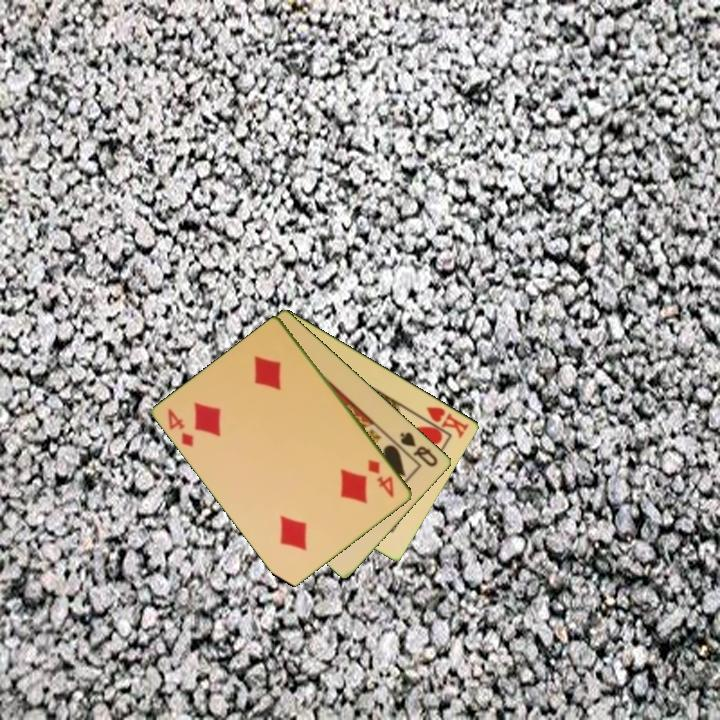4d: (164, 405, 197, 450), (365, 455, 397, 501)
Kh: (415, 403, 472, 441)
Qs: (397, 428, 441, 470)
